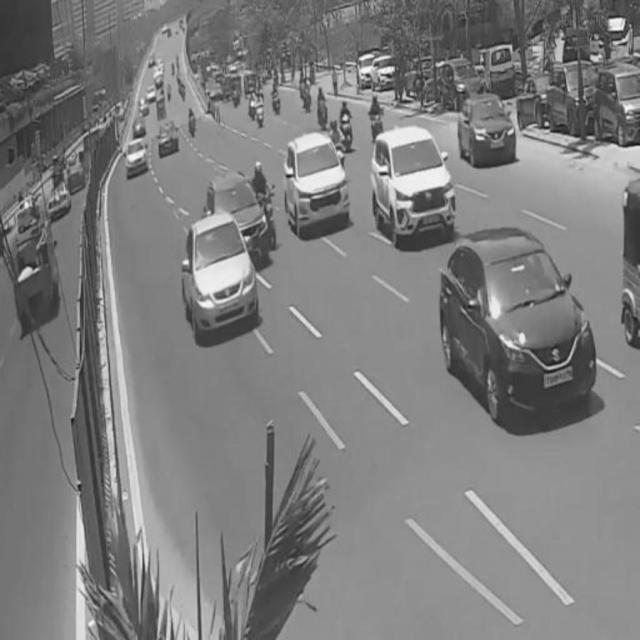accident: (206, 159, 279, 259)
vehicle: (438, 228, 596, 414), (178, 222, 261, 336), (377, 132, 454, 234), (284, 136, 352, 230), (455, 92, 516, 168), (593, 56, 640, 147), (547, 61, 602, 138), (511, 77, 553, 134), (368, 88, 386, 154), (340, 98, 357, 155), (125, 138, 149, 176), (159, 122, 179, 162)
